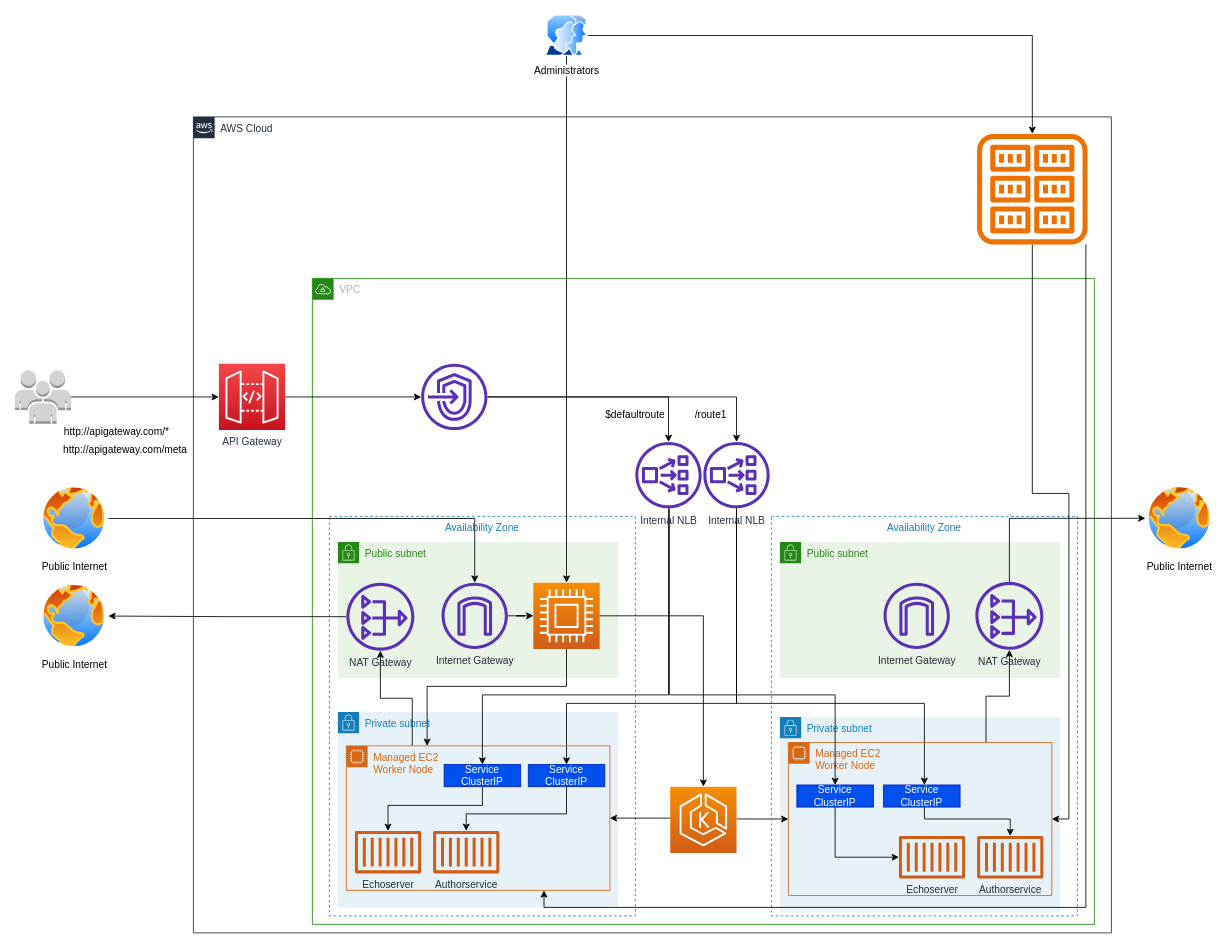
Some shapes in this 1228 by 948 pixel diagram are drawn without their labels. Each missing label, with the centre of its shape:
"Bastion Host" belongs at point (566, 615).
"EKS Control Plane" belongs at point (703, 819).
"Elastic Container Registry" belongs at point (1032, 188).
"Users" belongs at point (42, 396).
"VPC Link" belongs at point (454, 396).
